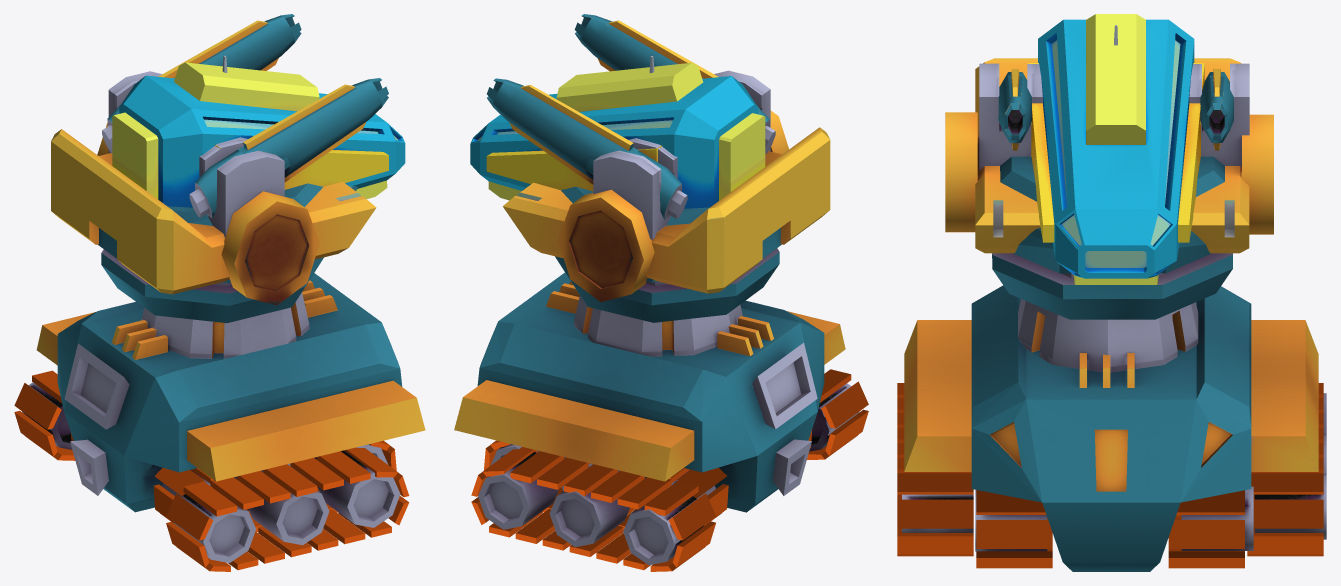
File: Player_Idle_2_Upgrade12.obj
The picture shows the model from 3 angles, left to right: view 1: azimuth 30°, elevation 25°; view 2: azimuth 150°, elevation 25°; view 3: azimuth 270°, elevation 25°; orthographic projection. The views are drawn at different scales.
Parts seen in each view (by area): view 1: Object008, Box020, Object014, Box018, Box019, Box017; view 2: Object008, Box019, Object014, Box018, Box020, Box016; view 3: Object008, Box020, Box019, Box017, Box016, Object014, Box018, Box009.
Boxes of the visible parts, <box> form: Object008: <box>36,62,425,512</box>; Box020: <box>166,448,409,571</box>; Object014: <box>102,14,388,218</box>; Box018: <box>22,382,400,562</box>; Box019: <box>14,370,75,460</box>; Box017: <box>153,440,396,531</box>; Object008: <box>454,62,845,512</box>; Box019: <box>471,447,715,571</box>; Object014: <box>487,14,775,219</box>; Box018: <box>478,383,859,565</box>; Box020: <box>807,369,868,459</box>; Box016: <box>484,440,728,530</box>; Object008: <box>904,14,1318,571</box>; Box020: <box>897,383,973,556</box>; Box019: <box>1247,383,1323,556</box>; Box017: <box>976,490,1052,568</box>; Box016: <box>1168,490,1244,568</box>; Object014: <box>998,69,1233,150</box>; Box018: <box>902,393,1326,539</box>; Box009: <box>975,486,1253,551</box>.
Bounding box in the file's own units: 65.77 × 86.35 × 68.55.
Materials: 5 (3 with a texture image).
